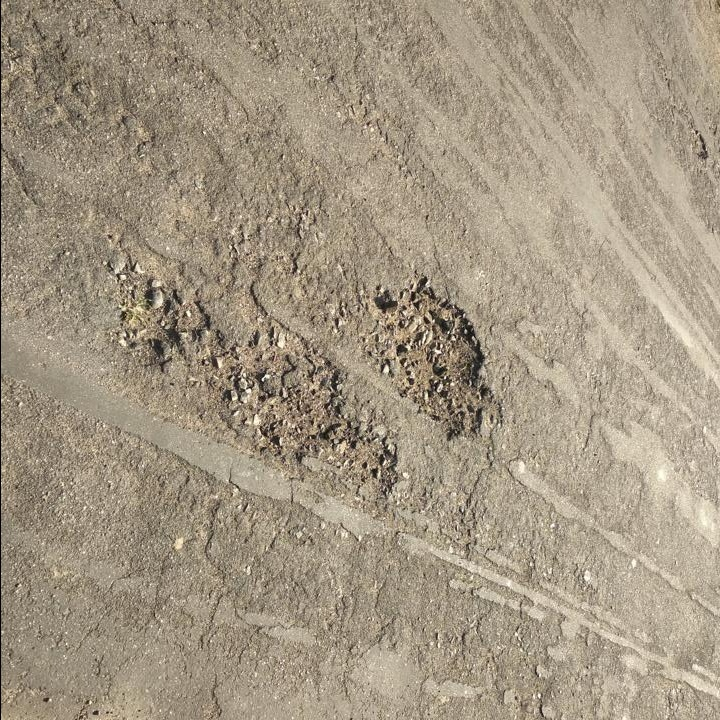pothole: (112, 262, 399, 501), (363, 275, 506, 443)
